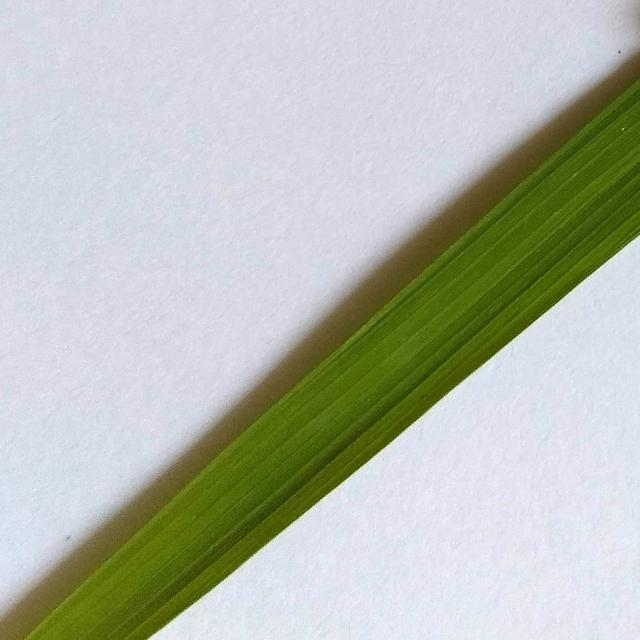Rice_Healthy: (26, 80, 640, 640)
